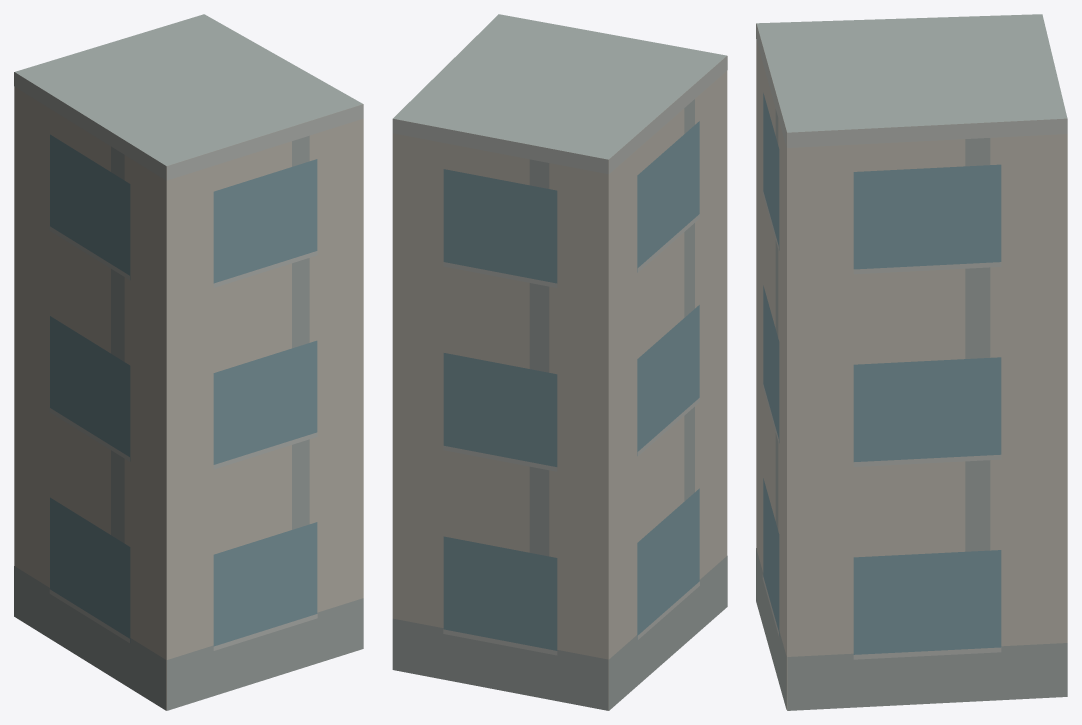
The model's file is survey-upis-32634317.glb.
The picture shows the model from 3 angles, left to right: view 1: azimuth 30°, elevation 25°; view 2: azimuth 150°, elevation 25°; view 3: azimuth 270°, elevation 25°; orthographic projection. The views are drawn at different scales.
Parts seen in each view (by area): view 1: survey-upis-32634317.tmp; view 2: survey-upis-32634317.tmp; view 3: survey-upis-32634317.tmp.
Part boxes in pixels (x1,y1,x2,y2): survey-upis-32634317.tmp: (14, 14, 363, 710); survey-upis-32634317.tmp: (392, 14, 727, 710); survey-upis-32634317.tmp: (756, 14, 1067, 710).
Bounding box in the file's own units: 4.04 × 9.15 × 4.47.
